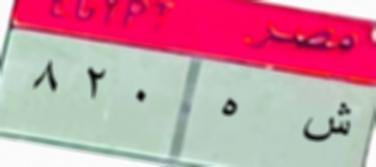0: (128, 80, 163, 114)
2: (83, 64, 112, 102)
8: (28, 58, 66, 97)
haa: (212, 97, 250, 125)
sheen: (299, 98, 359, 152)
